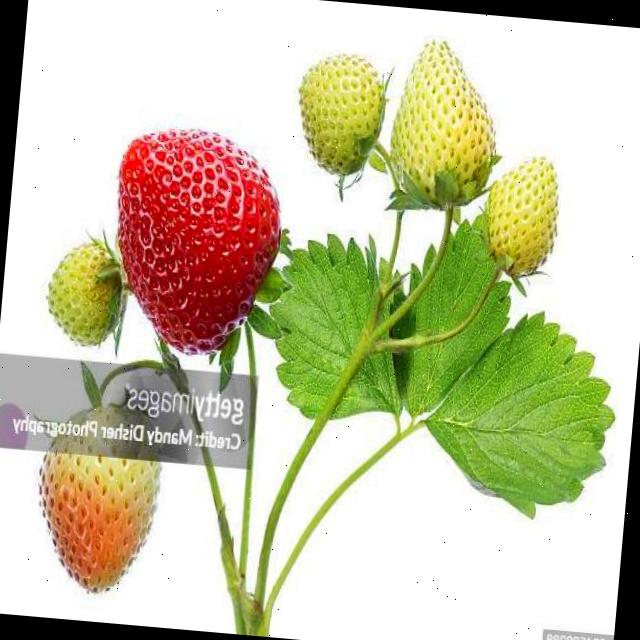strawberry: (103, 120, 287, 356), (29, 397, 165, 596), (385, 32, 502, 202), (290, 48, 386, 175), (482, 147, 562, 272), (42, 235, 122, 342)
